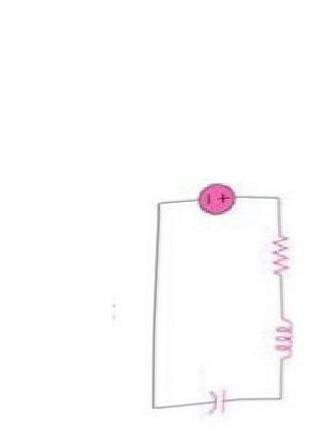Battery: (184, 172, 243, 223)
